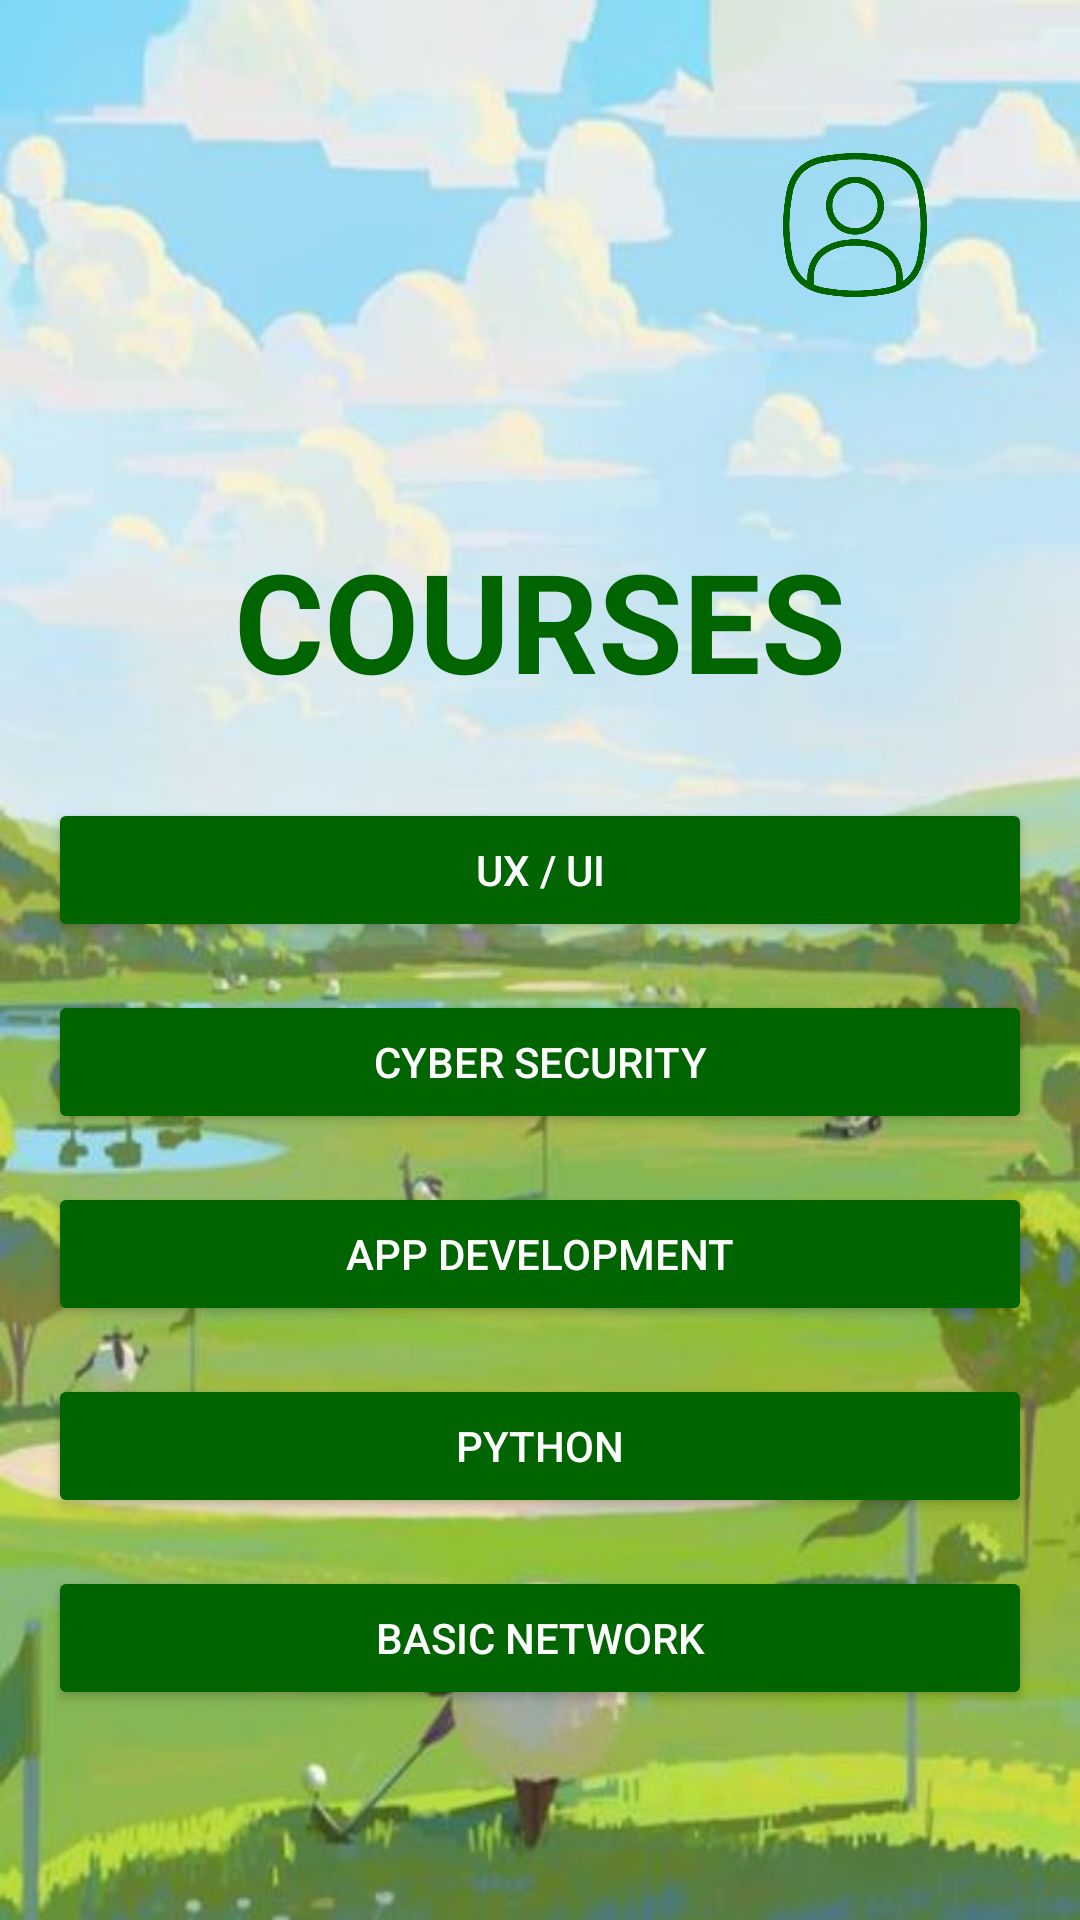

Icons on this 1080×1920 Android screen, each with the point to tap as point (x, y):
Profile Icon: point (855, 225)
